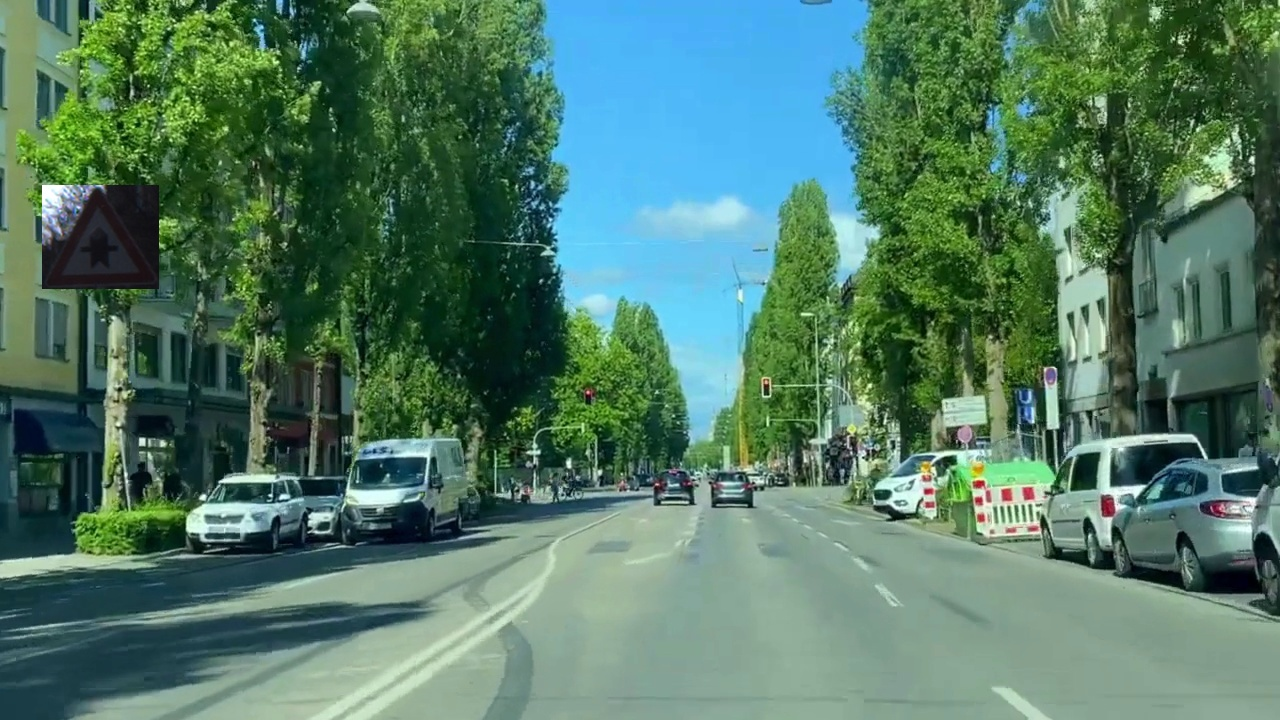Right-of-way: (42, 185, 159, 289)
